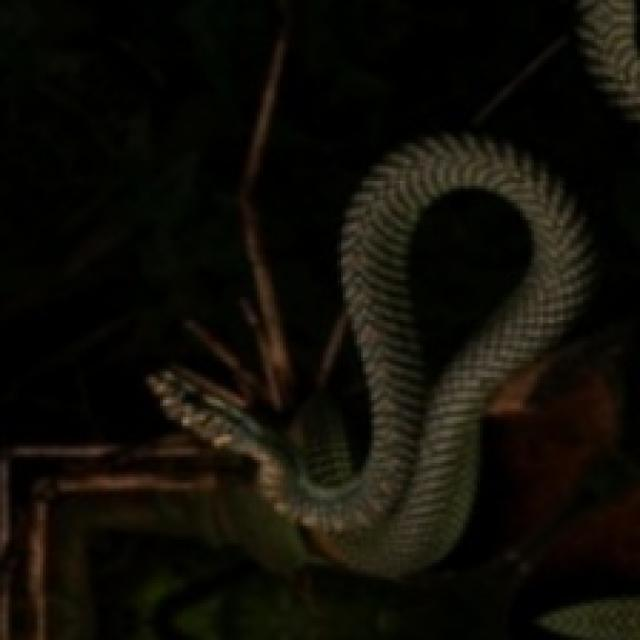paradise tree snake: (149, 134, 589, 574), (406, 186, 531, 389)
